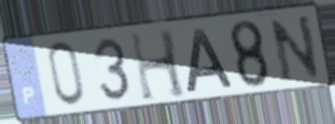0: (45, 39, 88, 110)
3: (91, 35, 132, 104)
8: (228, 18, 271, 90)
A: (184, 26, 235, 95)
H: (127, 26, 189, 105)
N: (267, 12, 324, 85)
